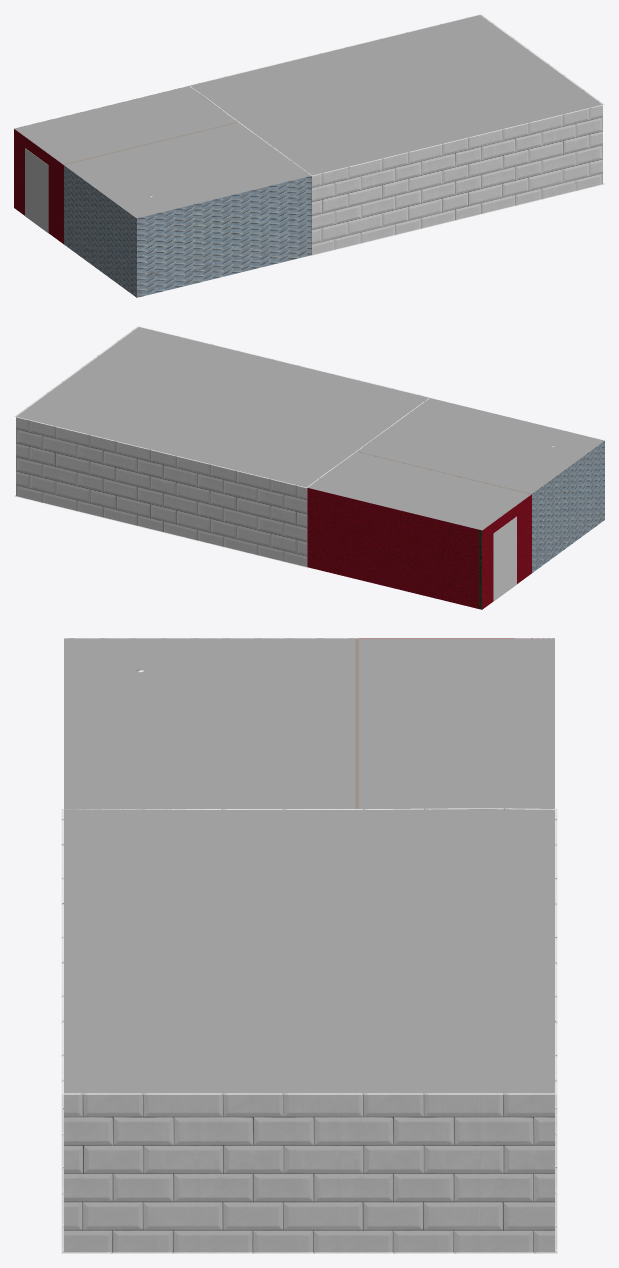
Rendered from Kitchen.fbx.
3 renders of one model, top to bottom at view 1: azimuth 30°, elevation 25°; view 2: azimuth 150°, elevation 25°; view 3: azimuth 270°, elevation 25°, orthographic. The views are drawn at different scales.
Visible parts, largest first — view 1: Ceiling, Walls, ExtraRooms, Ceiling Extra, Hallway door.001; view 2: Ceiling, Walls, ExtraRooms, Ceiling Extra, Hallway door.001; view 3: Ceiling, Ceiling Extra, Walls, ExtraRooms.
Boxes of the visible parts, left/top/right/bottom form: Ceiling: left=190, top=15, right=602, bottom=175; Walls: left=188, top=14, right=604, bottom=255; ExtraRooms: left=14, top=122, right=311, bottom=297; Ceiling Extra: left=14, top=86, right=310, bottom=218; Hallway door.001: left=25, top=148, right=48, bottom=233; Ceiling: left=16, top=327, right=428, bottom=487; Walls: left=14, top=326, right=430, bottom=567; ExtraRooms: left=307, top=441, right=604, bottom=609; Ceiling Extra: left=308, top=398, right=604, bottom=530; Hallway door.001: left=493, top=516, right=516, bottom=601; Ceiling: left=64, top=809, right=554, bottom=1093; Ceiling Extra: left=64, top=638, right=554, bottom=808; Walls: left=61, top=809, right=557, bottom=1253; ExtraRooms: left=64, top=638, right=553, bottom=808.
Size of the model in its own units: 4316 by 705 by 1980.
